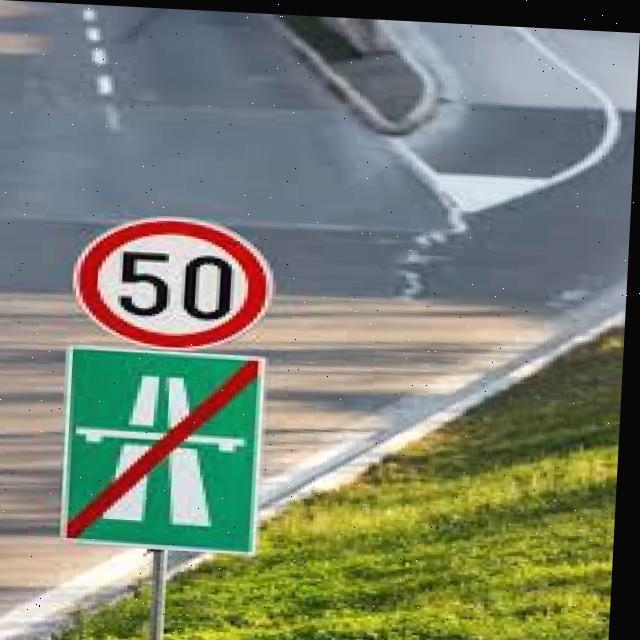Speed limit 50: (71, 207, 283, 353)
